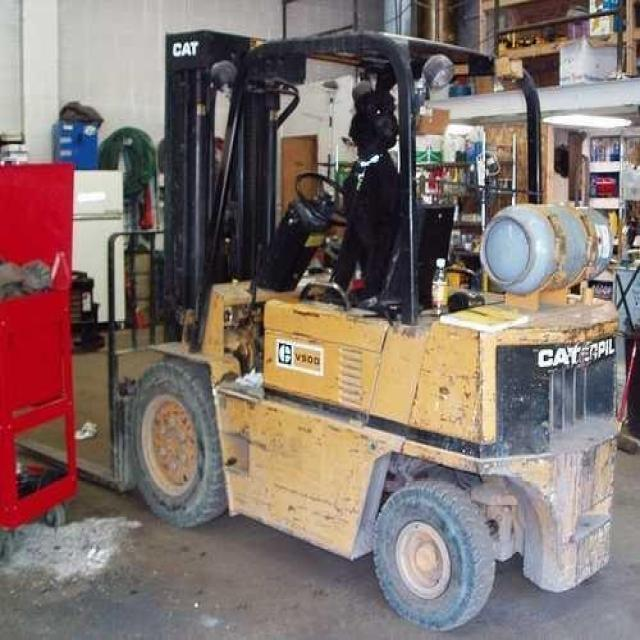forklift: (109, 28, 620, 634)
